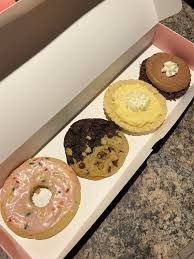Donut: (0, 153, 87, 245)
